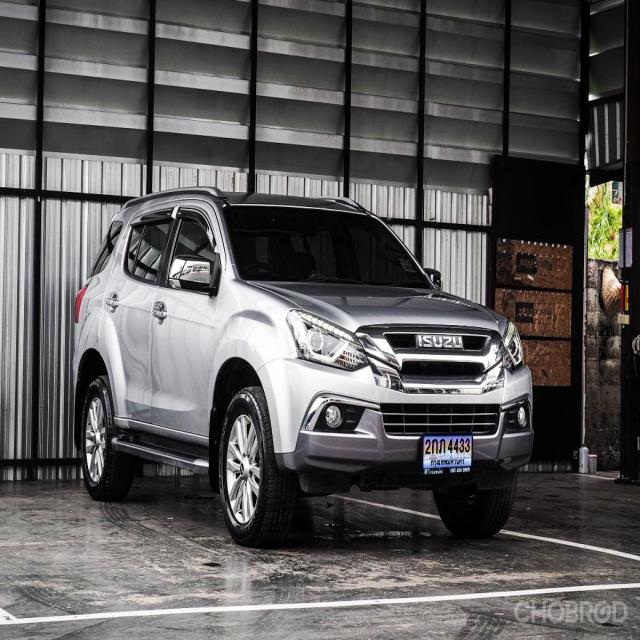license_plate: (418, 427, 474, 481)
